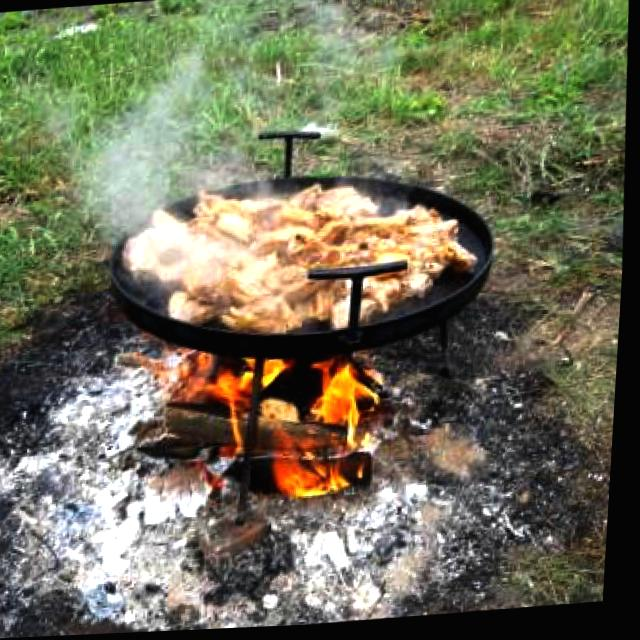Fire: (199, 345, 386, 512)
Smoke: (16, 50, 274, 310)
